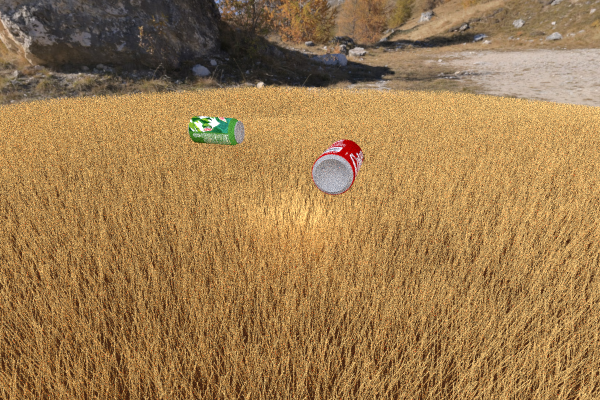Plastic Bottle: (269, 99, 356, 146), (311, 139, 363, 195), (188, 116, 244, 145)
